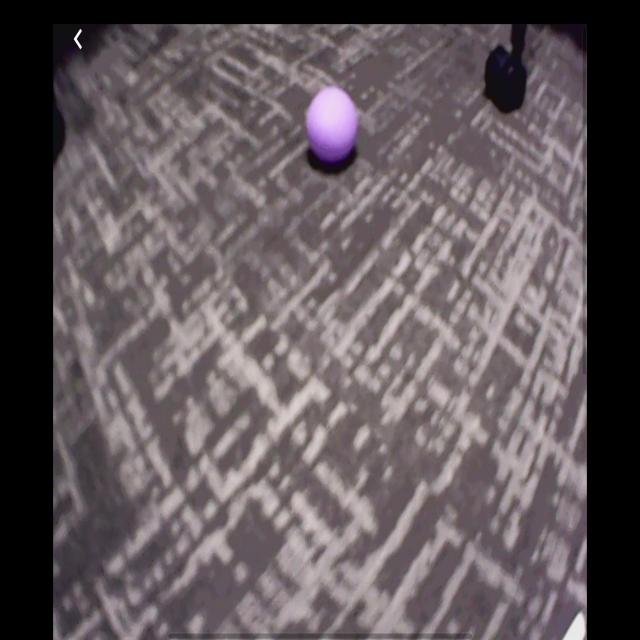ball: (306, 87, 356, 167)
